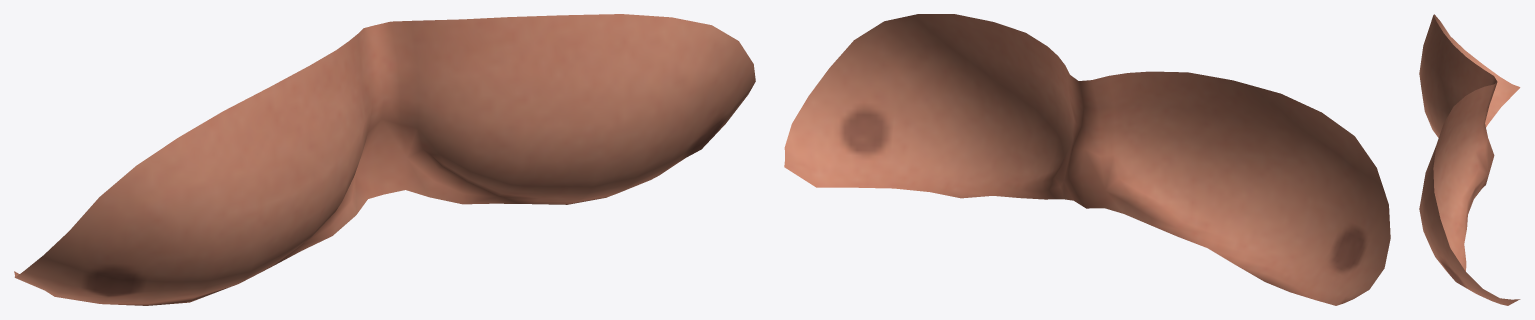
Rendered from chest_lower.glb.
3 renders of one model, left to right at view 1: azimuth 30°, elevation 25°; view 2: azimuth 150°, elevation 25°; view 3: azimuth 270°, elevation 25°, orthographic. The views are drawn at different scales.
Visible parts, largest first — view 1: chest_lower; view 2: chest_lower; view 3: chest_lower.
Boxes of the visible parts, x1=… form: chest_lower: x1=14, y1=14, x2=755, y2=305; chest_lower: x1=784, y1=14, x2=1390, y2=305; chest_lower: x1=1419, y1=14, x2=1520, y2=305.
Bounding box in the file's own units: 0.0303 × 0.00881 × 0.00578.
1 material, 1 textured.
